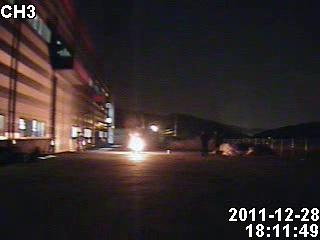fire: (122, 124, 152, 155)
